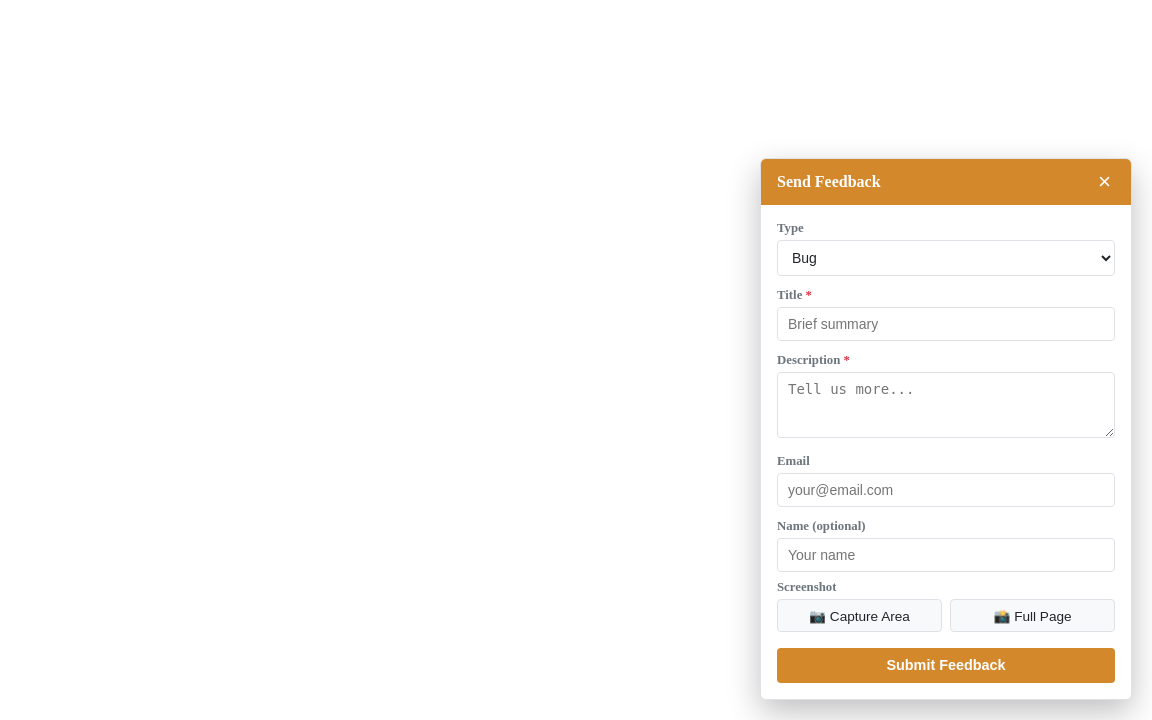
Test case: what the widget reports about a capture › passes through the specific message a generic failure carries
The width and height of the screenshot is (1152, 720).
Click the button "📷 Capture Area".
click(860, 616)  # box [777,599,942,632]
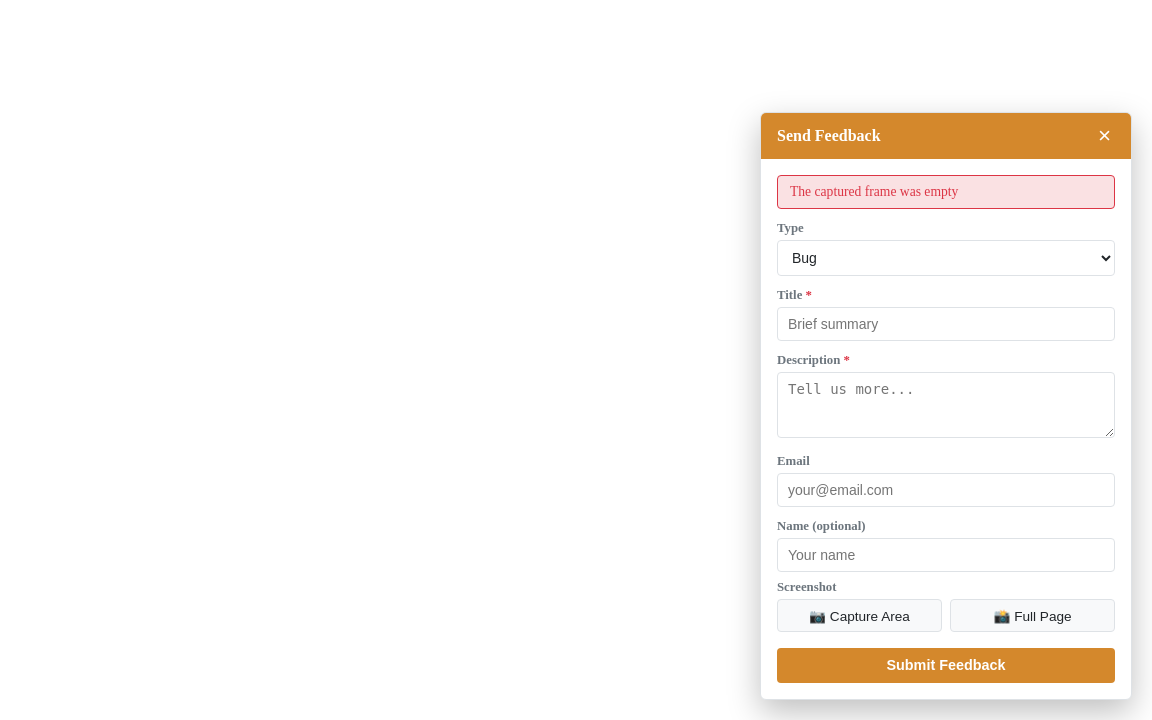
Expected: the text "The captured frame was empty" is shown, [777,175,1115,209]
